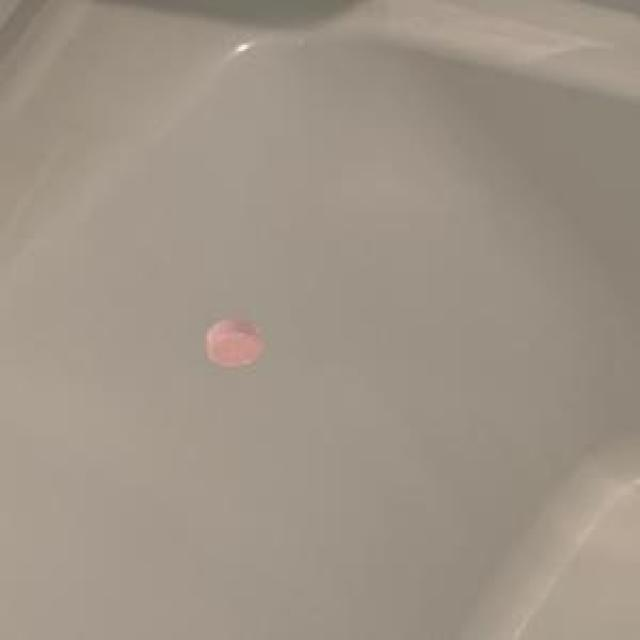Kremil_S: (193, 307, 271, 380)
